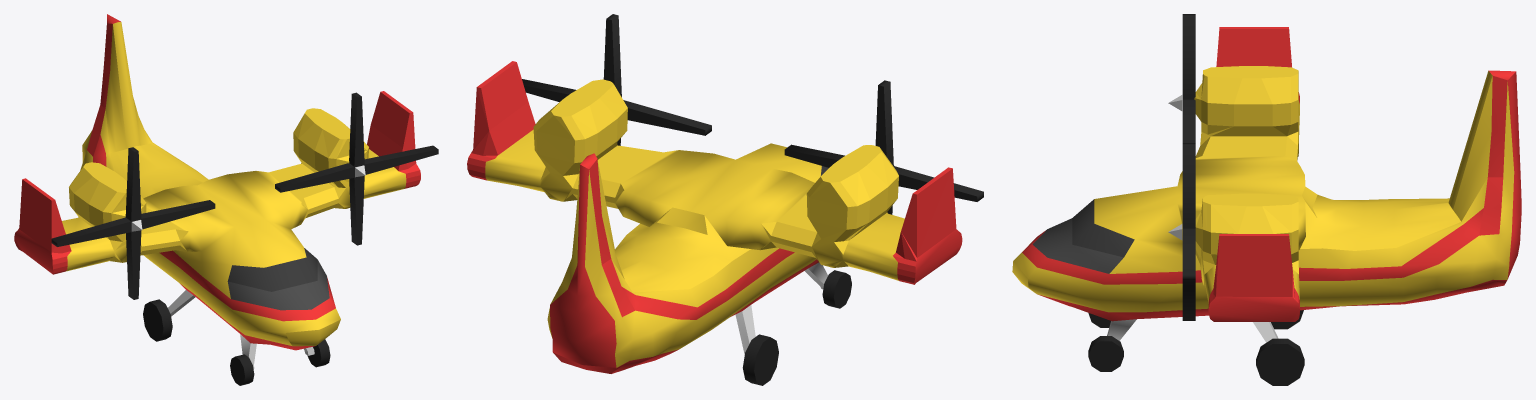
The model's file is Canadair CL-215.FBX.
The picture shows the model from 3 angles, left to right: view 1: azimuth 30°, elevation 25°; view 2: azimuth 150°, elevation 25°; view 3: azimuth 270°, elevation 25°; orthographic projection. The views are drawn at different scales.
Visible parts, largest first — view 1: Box001, Box003, Box002, Cylinder005, Cylinder001, Cylinder007; view 2: Box001, Box003, Box002, Cylinder005, Cylinder001; view 3: Box001, Box003, Cylinder006, Box002, Cylinder007.
Part boxes in pixels (bbox=[...]): Box001: bbox=[14, 14, 420, 368]; Box003: bbox=[275, 92, 438, 245]; Box002: bbox=[51, 147, 215, 299]; Cylinder005: bbox=[143, 299, 172, 341]; Cylinder001: bbox=[230, 354, 254, 385]; Cylinder007: bbox=[307, 339, 330, 367]; Box001: bbox=[467, 61, 962, 373]; Box003: bbox=[522, 14, 711, 145]; Box002: bbox=[784, 80, 983, 214]; Cylinder005: bbox=[742, 334, 778, 385]; Cylinder001: bbox=[822, 270, 851, 308]; Box001: bbox=[1012, 27, 1521, 342]; Box003: bbox=[1182, 143, 1195, 320]; Cylinder006: bbox=[1256, 338, 1304, 385]; Box002: bbox=[1182, 14, 1195, 142]; Cylinder007: bbox=[1088, 336, 1123, 371].
Size of the model in its own units: 85.31 by 51.31 by 83.25.
5 materials, 5 textured.
